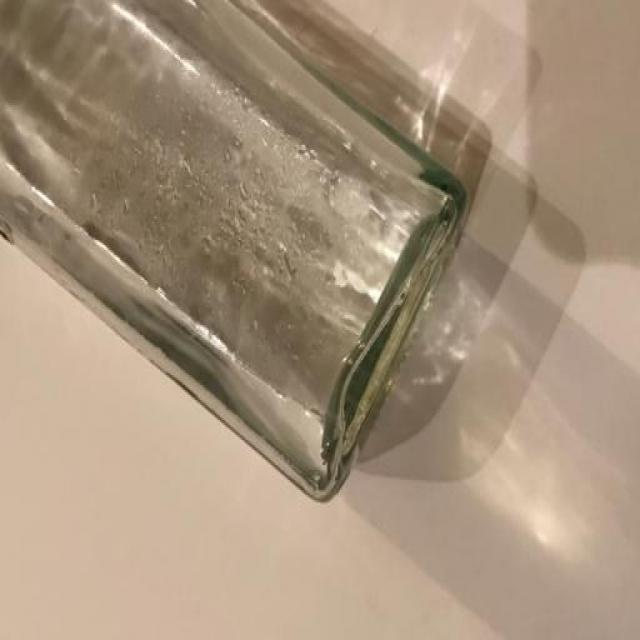glass: (1, 1, 483, 637)
